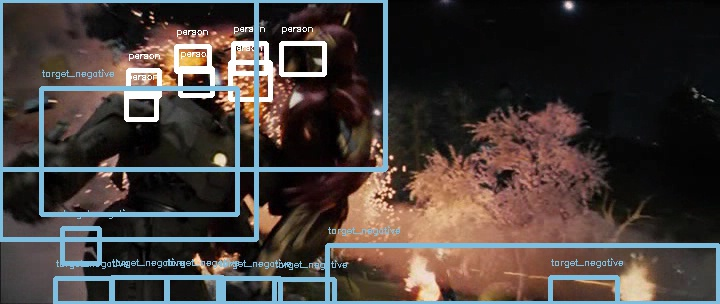person: (307, 27, 353, 78), (306, 27, 352, 78), (308, 27, 354, 78), (307, 26, 353, 77), (307, 28, 353, 79)
target_negative: (79, 123, 568, 231), (501, 148, 666, 284), (253, 271, 688, 290), (372, 235, 476, 277), (276, 146, 374, 177), (612, 224, 699, 258)
